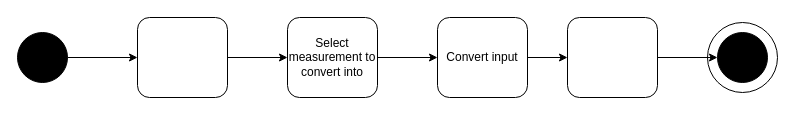
Image size: 795x115. Some labels were removed from this diagram. The shapes that lost their labels are listed below. From the top down, each one's centre as x and y in pixels, then its label:
(182,57): Input distance and measurement
(612,57): Output new conversion
